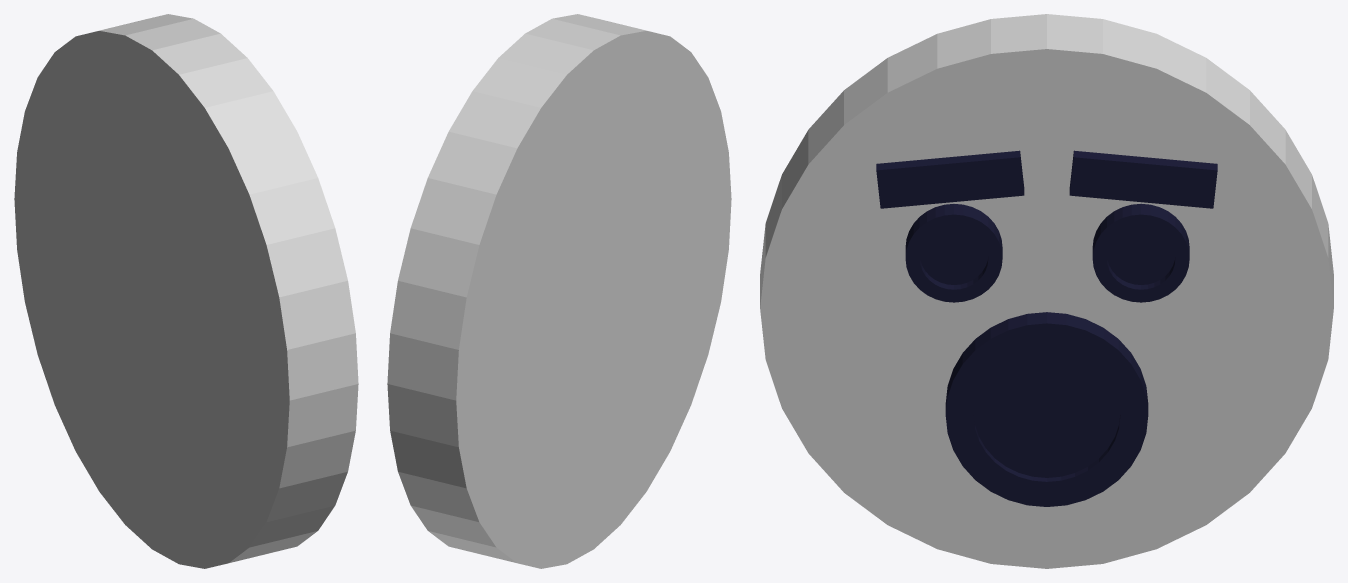
File: boton Fear.fbx
The picture shows the model from 3 angles, left to right: view 1: azimuth 30°, elevation 25°; view 2: azimuth 150°, elevation 25°; view 3: azimuth 270°, elevation 25°; orthographic projection. The views are drawn at different scales.
Parts seen in each view (by area): view 1: Circle; view 2: Circle; view 3: Circle, Cylinder.
Boxes of the visible parts, x1,y1,x2,y2 form: Circle: (14,14,358,568); Circle: (387,14,731,568); Circle: (760,14,1333,568); Cylinder: (876,150,1217,506).
Bounding box in the file's own units: 19.12 × 100 × 100.
